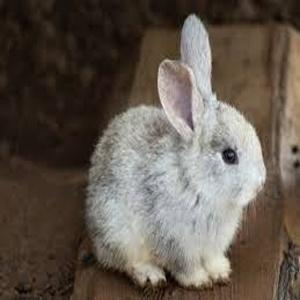rabbit: (86, 15, 265, 286)
